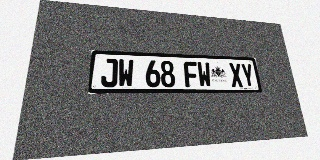6: (145, 60, 161, 87)
8: (160, 60, 175, 87)
F: (183, 61, 199, 87)
J: (100, 58, 118, 87)
W: (118, 59, 134, 87), (197, 62, 212, 87)
X: (228, 63, 244, 87)
Y: (240, 63, 255, 87)
